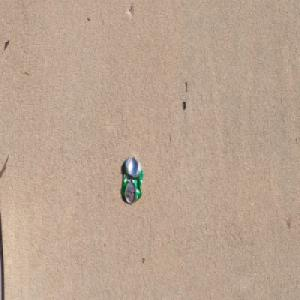SodaCan: (121, 155, 144, 205)
